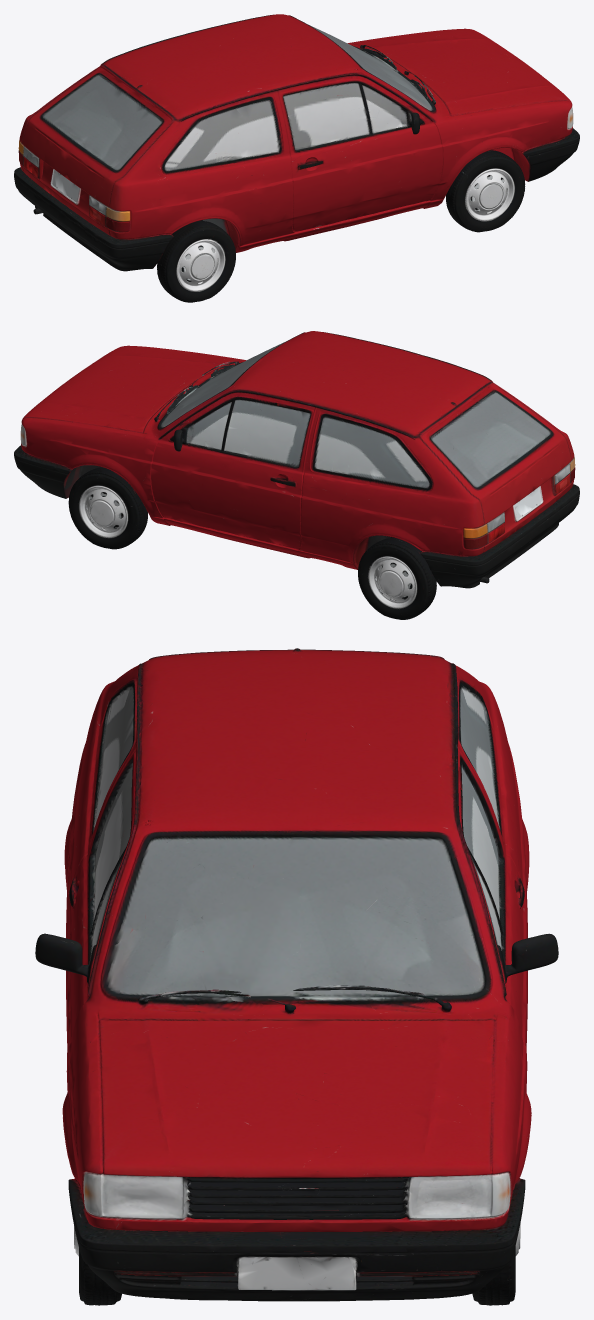
The model's file is hatch-quadrado-v2__01a17dd1.glb.
3 views of the same model, one above another, from view 1: azimuth 30°, elevation 25°; view 2: azimuth 150°, elevation 25°; view 3: azimuth 270°, elevation 25° (orthographic). The views are drawn at different scales.
Visible parts, largest first — view 1: hatch-quadrado-v2; view 2: hatch-quadrado-v2; view 3: hatch-quadrado-v2.
Boxes of the visible parts, bbox=[...] form: hatch-quadrado-v2: bbox=[14, 14, 579, 302]; hatch-quadrado-v2: bbox=[14, 331, 579, 619]; hatch-quadrado-v2: bbox=[35, 648, 558, 1305].
Bounding box in the file's own units: 3.81 × 1.43 × 1.82.
1 material, 1 textured.
